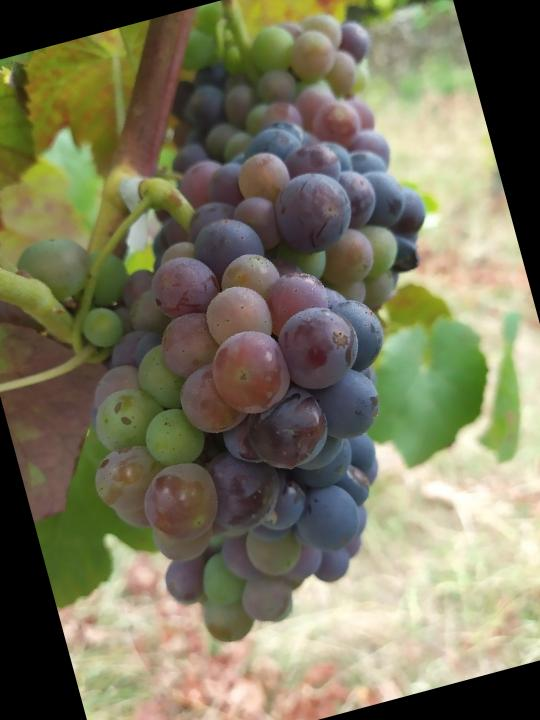grape: (13, 92, 525, 671)
